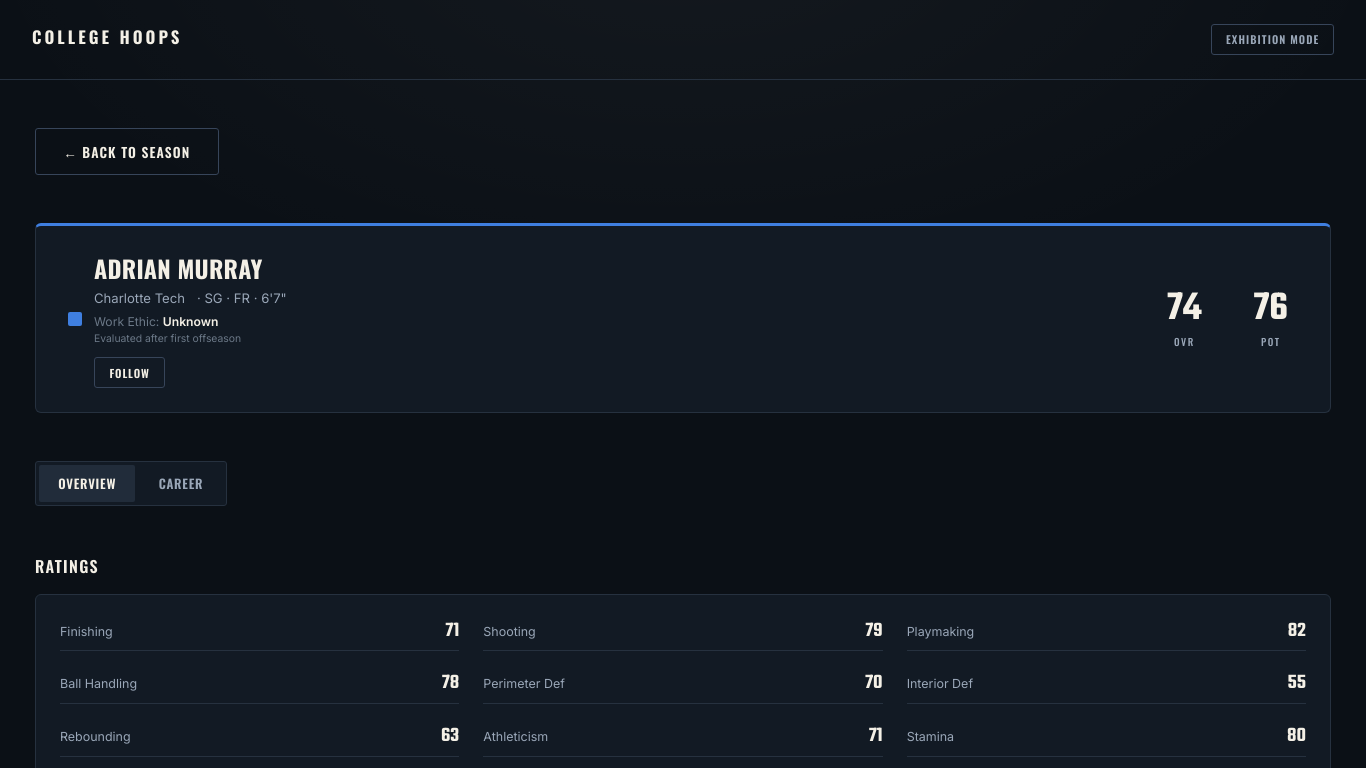
Test: Player Details — Career Progression › shows one career row with no development gain for a freshman
The width and height of the screenshot is (1366, 768).
Click the button "Career" at (181, 484), box [139, 465, 222, 502]
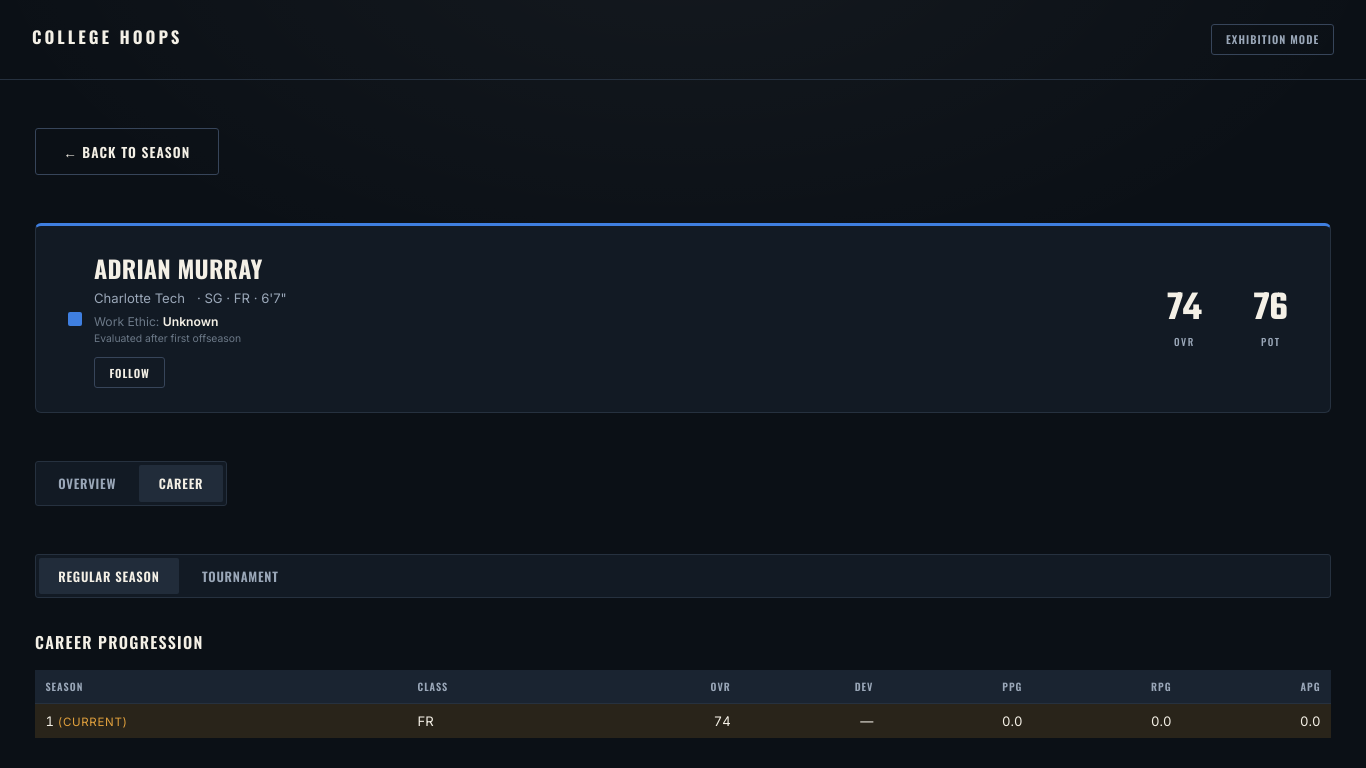
Check: the text "FR" is shown, box [407, 704, 593, 738]
Check: the text "—" is shown, box [741, 704, 884, 738]
